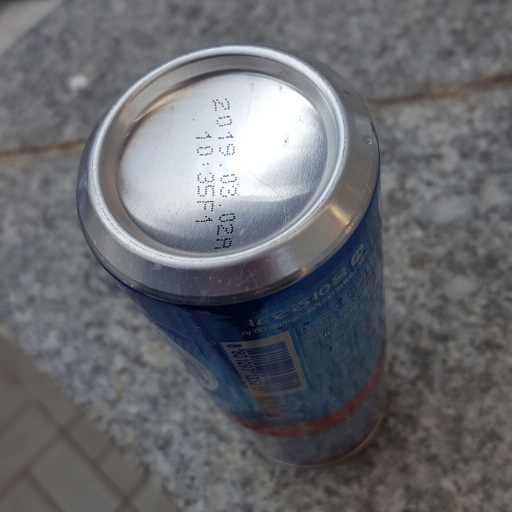Metal_0: (77, 43, 391, 466)
